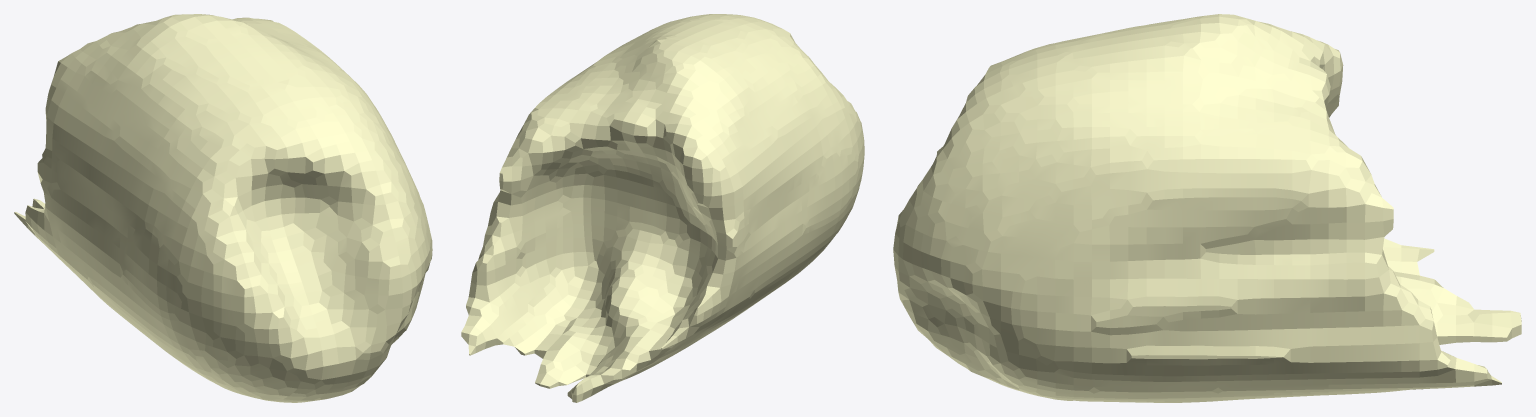
The model's file is item-hair.glb.
3 views of the same model, side by side, from view 1: azimuth 30°, elevation 25°; view 2: azimuth 150°, elevation 25°; view 3: azimuth 270°, elevation 25° (orthographic). The views are drawn at different scales.
Bounding box in the file's own units: 0.0183 × 0.0212 × 0.0345.
